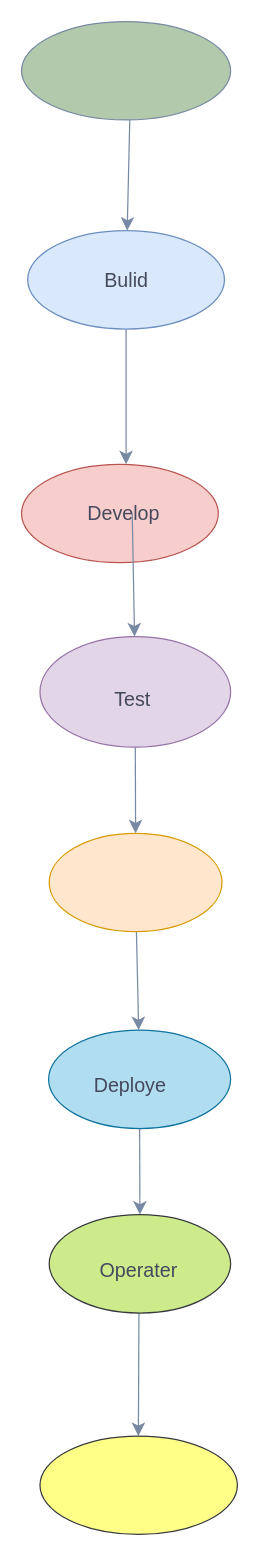
This 260x1556 diagram has some shape labels left out. Each missing label, with the centre of its shape:
"Monitor" goes at [138,1484].
"Plan" goes at [125,70].
"Release" goes at [135,882].
